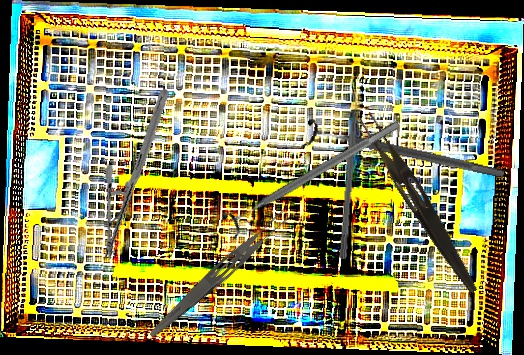Dressing Forceps: (352, 111, 487, 296), (145, 204, 295, 346)
Fixation Ring: (218, 111, 407, 241), (302, 116, 508, 190)
Needle Holder: (76, 88, 196, 261)
Pusher: (338, 89, 363, 260)
